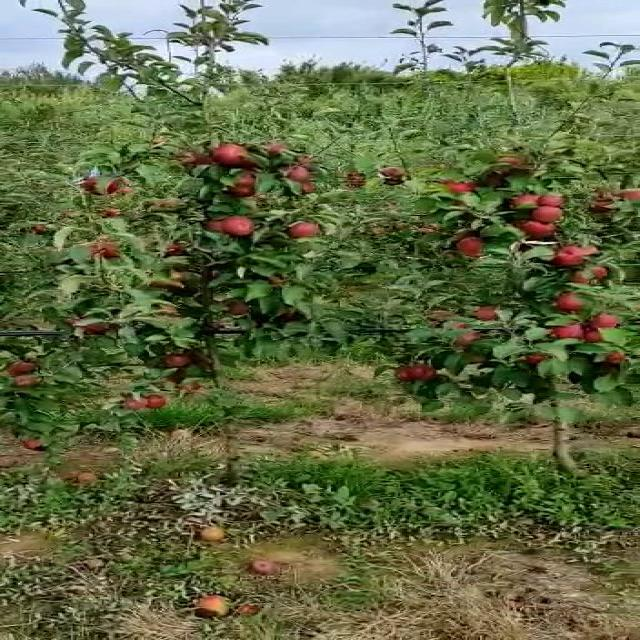100-_ripeness: (558, 243, 600, 271), (512, 222, 554, 244), (211, 140, 245, 166), (554, 291, 592, 312), (227, 213, 260, 237), (80, 174, 120, 193), (456, 233, 486, 258), (574, 267, 604, 290), (585, 313, 622, 331), (554, 321, 586, 341), (398, 364, 433, 381), (536, 191, 571, 208), (289, 222, 322, 240), (533, 207, 567, 222), (158, 353, 193, 365), (9, 360, 33, 377)
